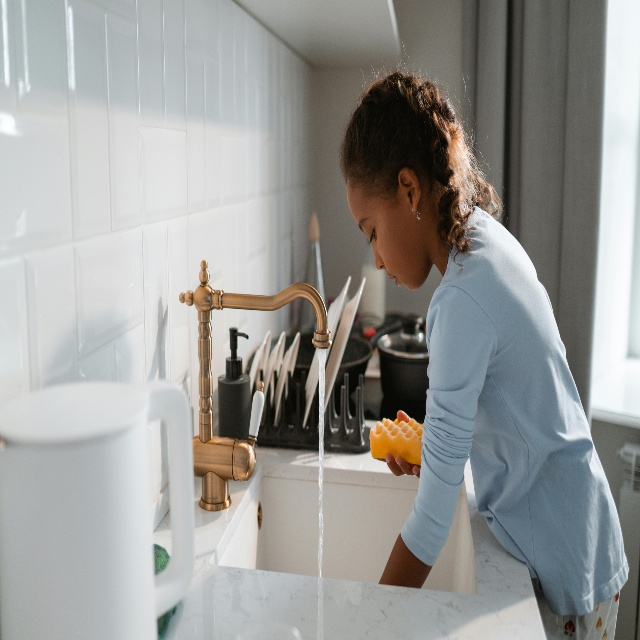Sin_guantes: (376, 406, 425, 479)
